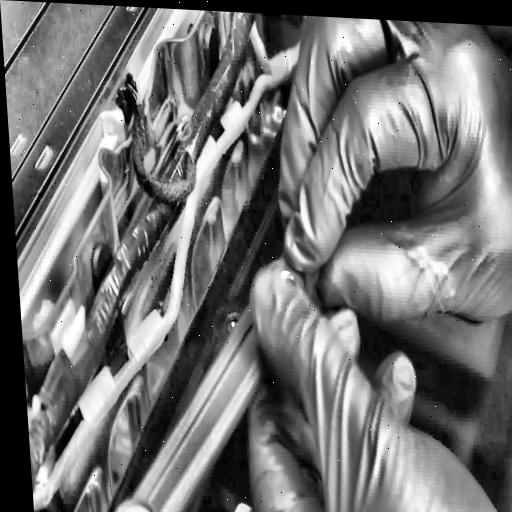high_volt_cable: (33, 21, 300, 512)
low_volt_cable: (30, 12, 260, 472)
